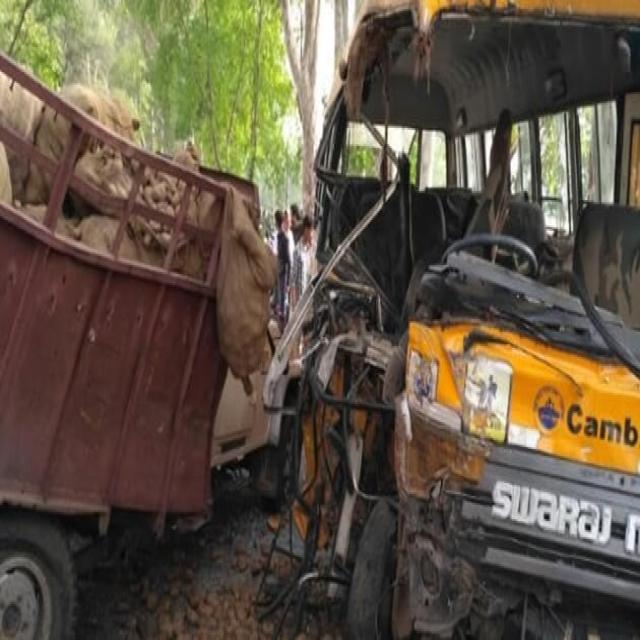accident: (261, 1, 640, 638)
